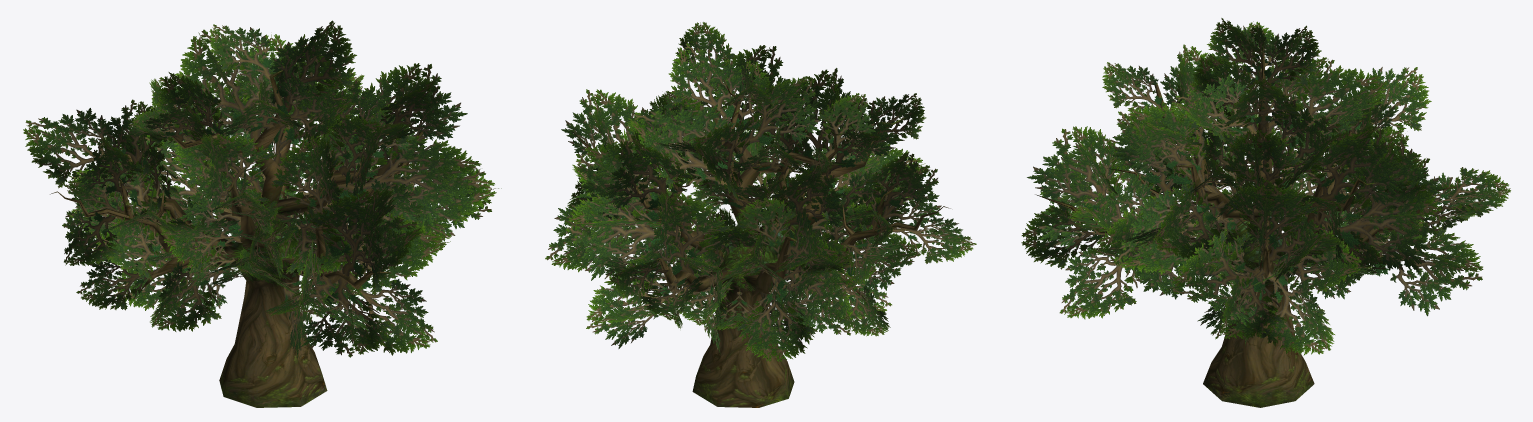
File: sholazarhugecanopy_tree02.obj
3 views of the same model, side by side, from view 1: azimuth 30°, elevation 25°; view 2: azimuth 150°, elevation 25°; view 3: azimuth 270°, elevation 25° (orthographic). The views are drawn at different scales.
Parts seen in each view (by area): view 1: Geoset1, Geoset0; view 2: Geoset1, Geoset0; view 3: Geoset1, Geoset0.
Part boxes in pixels (x1=…): Geoset1: x1=23, y1=20, x2=501, y2=358; Geoset0: x1=50, y1=59, x2=438, y2=407; Geoset1: x1=545, y1=22, x2=976, y2=361; Geoset0: x1=571, y1=79, x2=950, y2=407; Geoset1: x1=1021, y1=18, x2=1510, y2=355; Geoset0: x1=1035, y1=42, x2=1459, y2=407.
Bounding box in the file's own units: 283 × 219 × 290.
Materials: 2 (2 with a texture image).
